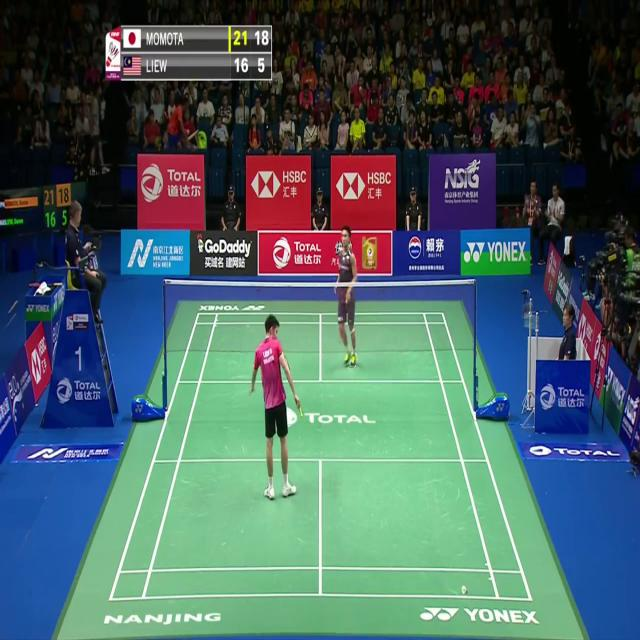Shuttlecock: (461, 584, 467, 595)
